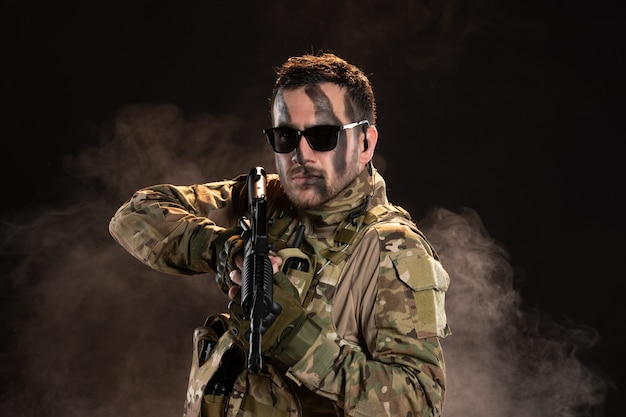gun: (242, 164, 282, 376)
